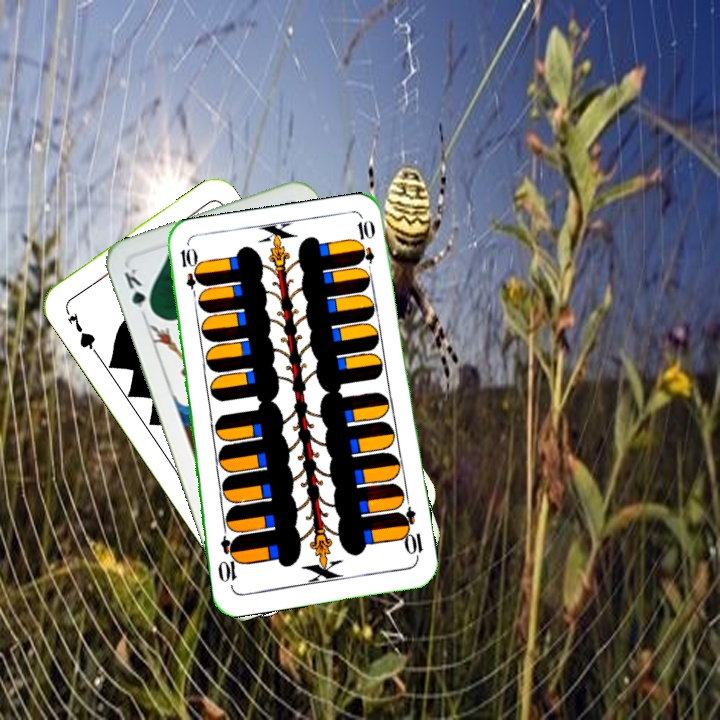E10: (395, 504, 426, 563), (176, 244, 202, 303)
G7: (61, 303, 100, 356)
GK: (119, 264, 156, 317)
